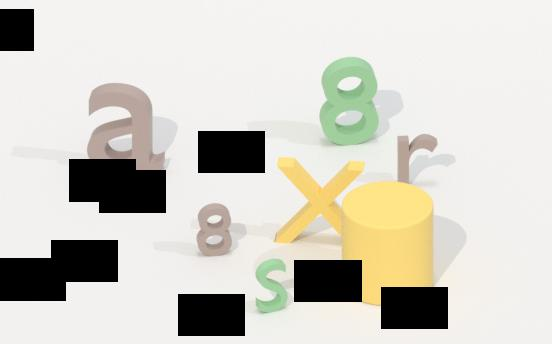8: (313, 57, 384, 148), (191, 201, 238, 260)
R: (392, 131, 443, 187)
a: (82, 83, 167, 176)
s: (250, 257, 294, 317)
tru: (333, 189, 436, 305)
x: (268, 154, 372, 252)
